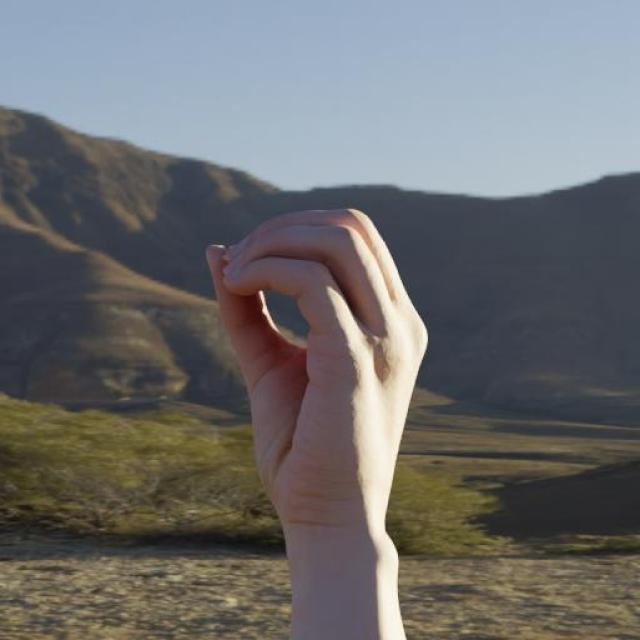O: (182, 176, 459, 610)
